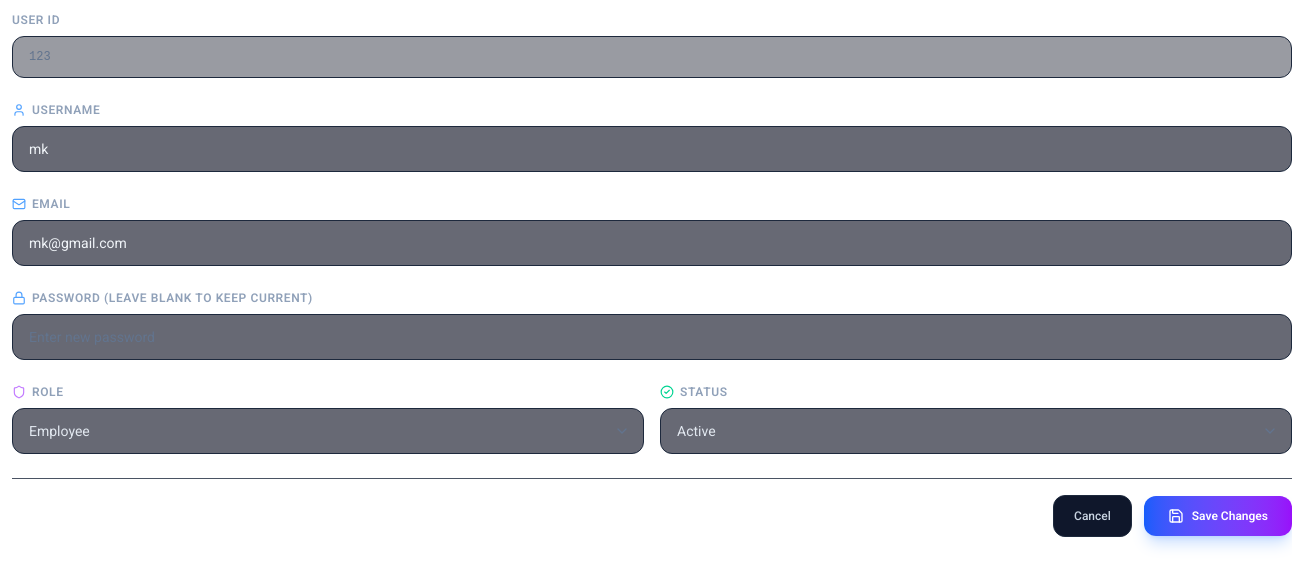
Edit User › shall show loading state will updating
Replace the text in the field with placeholder "Enter username" with "immk" at point(652, 149), box [12,126,1292,172]
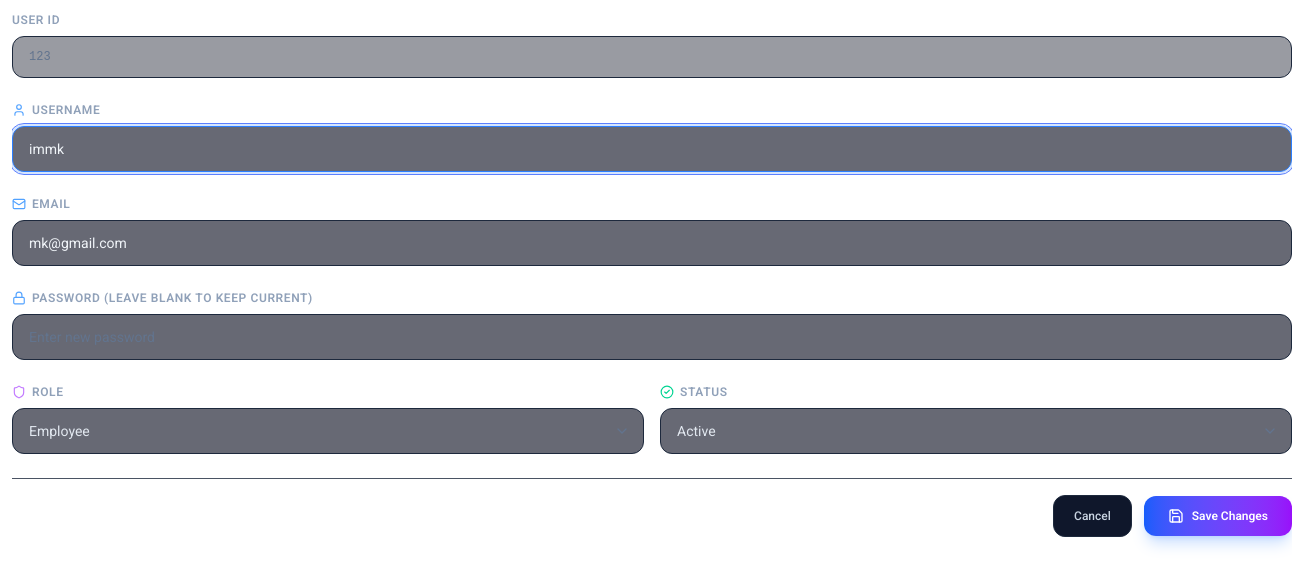
Click the button "Save Changes".
click(1218, 516)  # box [1144,496,1292,536]
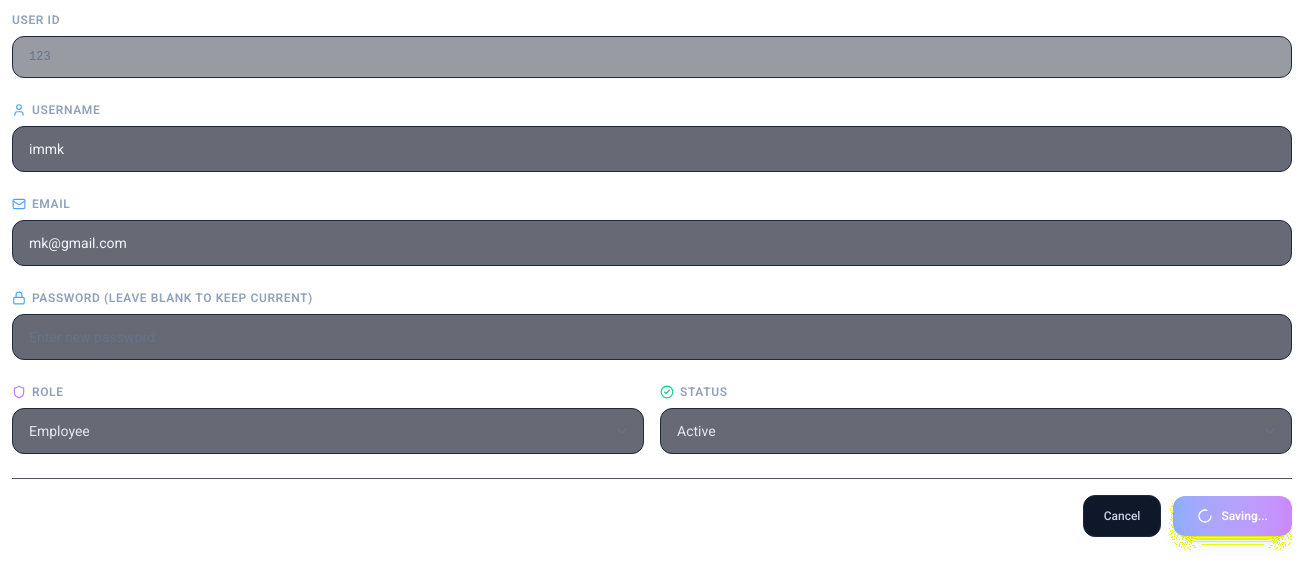
Expected: the text "Saving..." is shown, [1221,508,1268,524]
